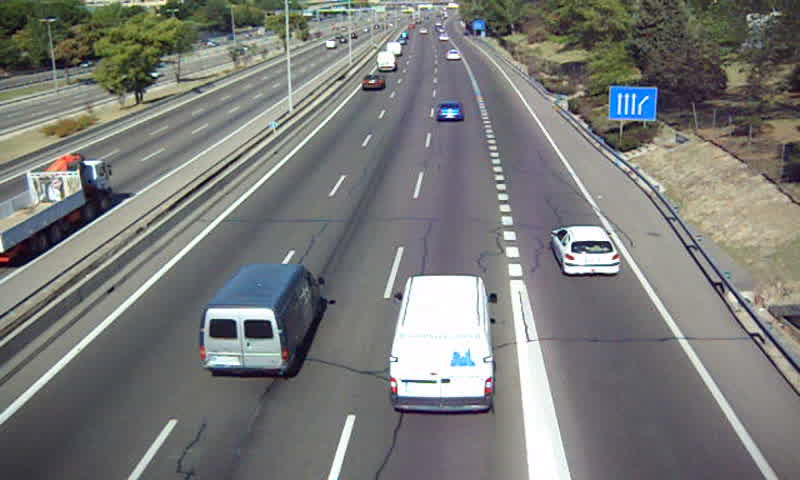car: (550, 224, 620, 277), (434, 101, 466, 122), (361, 73, 386, 90)
van: (389, 275, 494, 409), (200, 263, 323, 373), (376, 51, 397, 71)
